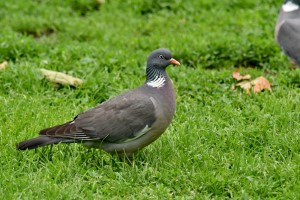pigeon: (16, 46, 181, 160)
